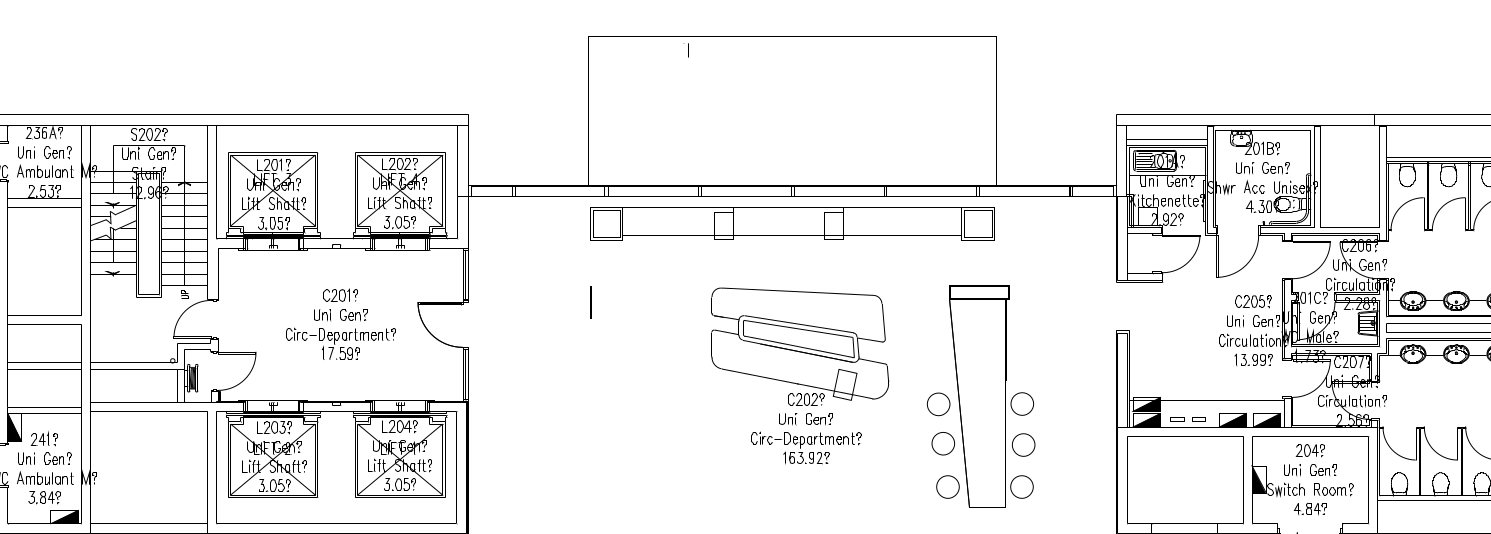door: (412, 296, 464, 359), (1209, 232, 1259, 282), (1159, 232, 1203, 278), (1294, 356, 1333, 404), (220, 350, 261, 394), (1293, 238, 1333, 283), (165, 301, 209, 340), (1388, 193, 1426, 236), (1427, 194, 1465, 237), (1383, 424, 1421, 467), (1421, 423, 1459, 466), (1464, 422, 1491, 467)
